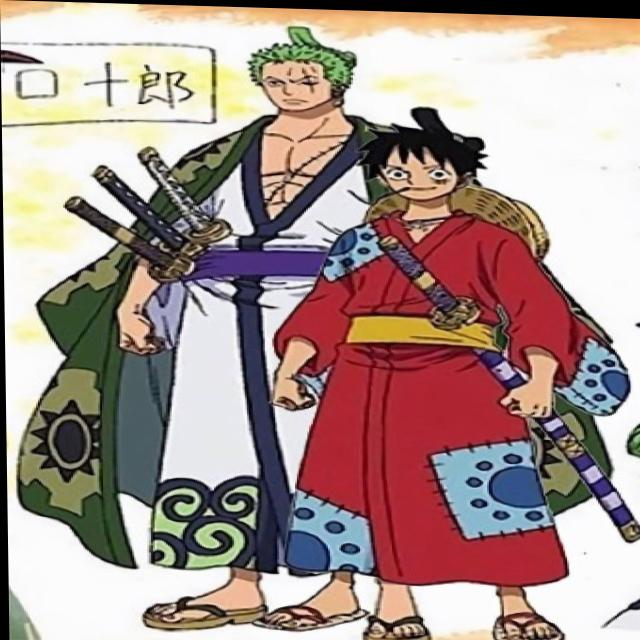Luffy: (344, 122, 482, 210)
Zoro: (243, 27, 361, 113)
